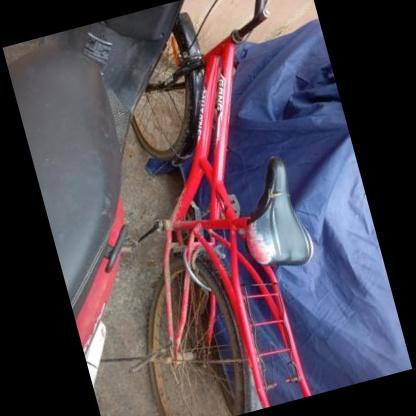Bicycle: (55, 9, 413, 409)
